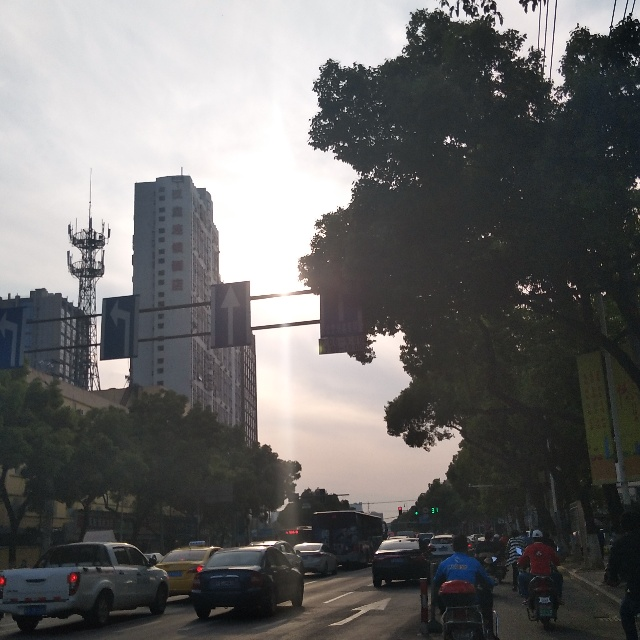left: (101, 294, 137, 356), (1, 311, 26, 368)
straight: (210, 283, 250, 347)
